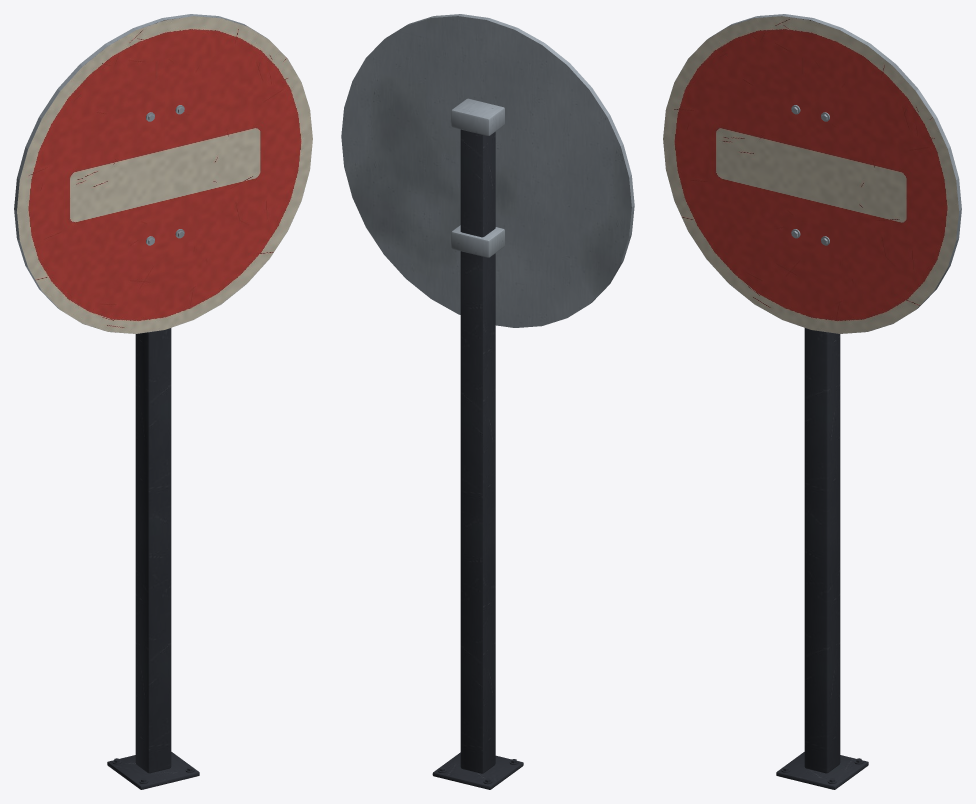
The model's file is no_entry_sign.glb.
3 views of the same model, side by side, from view 1: azimuth 30°, elevation 25°; view 2: azimuth 150°, elevation 25°; view 3: azimuth 330°, elevation 25° (orthographic).
Parts seen in each view (by area): view 1: NoEntrySignMesh; view 2: NoEntrySignMesh; view 3: NoEntrySignMesh.
Part boxes in pixels (<box>): NoEntrySignMesh: <box>14,14,312,789</box>; NoEntrySignMesh: <box>341,14,634,789</box>; NoEntrySignMesh: <box>663,14,961,789</box>.
Size of the model in its own units: 0.6 by 1.47 by 0.12.
Materials: 3 (3 with a texture image).
